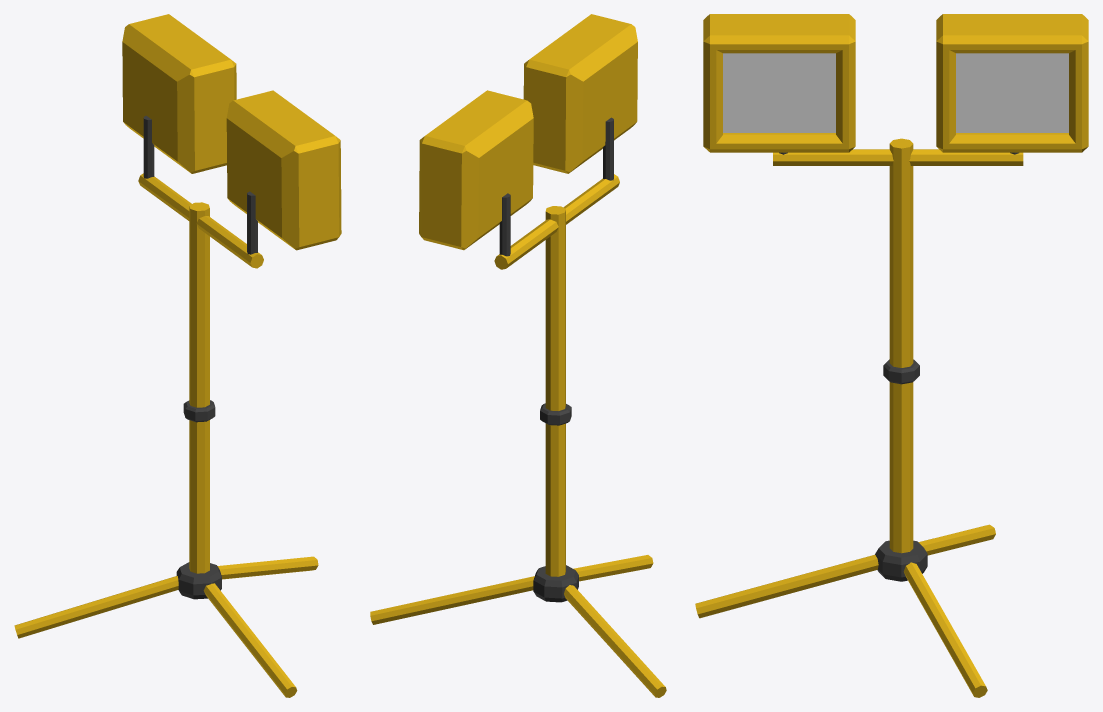
Rendered from Work Light B.fbx.
3 views of the same model, side by side, from view 1: azimuth 30°, elevation 25°; view 2: azimuth 150°, elevation 25°; view 3: azimuth 270°, elevation 25° (orthographic). The views are drawn at different scales.
Parts seen in each view (by area): view 1: Work Light B; view 2: Work Light B; view 3: Work Light B.
Part boxes in pixels (x1,y1,x2,y2): Work Light B: [14, 14, 341, 697]; Work Light B: [370, 14, 666, 697]; Work Light B: [695, 14, 1088, 697].
Size of the model in its own units: 112 by 195 by 114.
